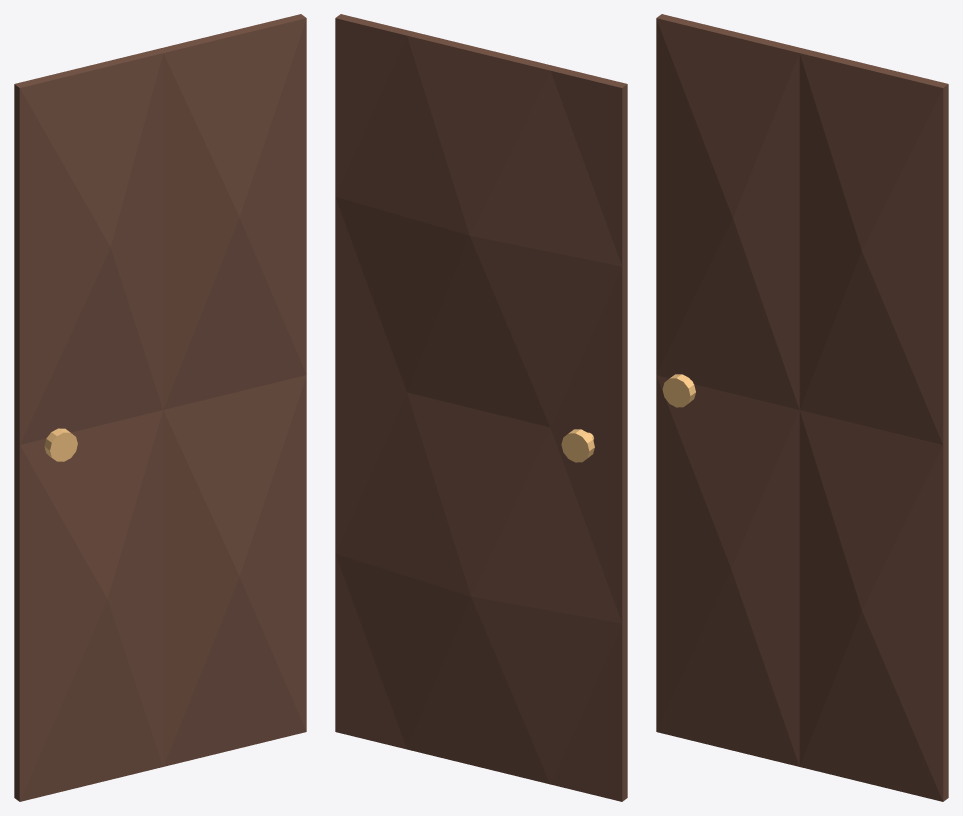
The model's file is door.glb.
The picture shows the model from 3 angles, left to right: view 1: azimuth 30°, elevation 25°; view 2: azimuth 150°, elevation 25°; view 3: azimuth 330°, elevation 25°; orthographic projection.
Visible parts, largest first — view 1: group1139619275, group1170317054; view 2: group1139619275, group507937764; view 3: group1139619275, group1170317054.
Boxes of the visible parts, left/top/right/bottom form: group1139619275: left=14, top=14, right=306, bottom=801; group1170317054: left=44, top=428, right=77, bottom=461; group1139619275: left=335, top=14, right=627, bottom=801; group507937764: left=561, top=429, right=594, bottom=462; group1139619275: left=656, top=14, right=948, bottom=801; group1170317054: left=662, top=374, right=695, bottom=407.
Size of the model in its own units: 2.36 by 5.61 by 0.44.
